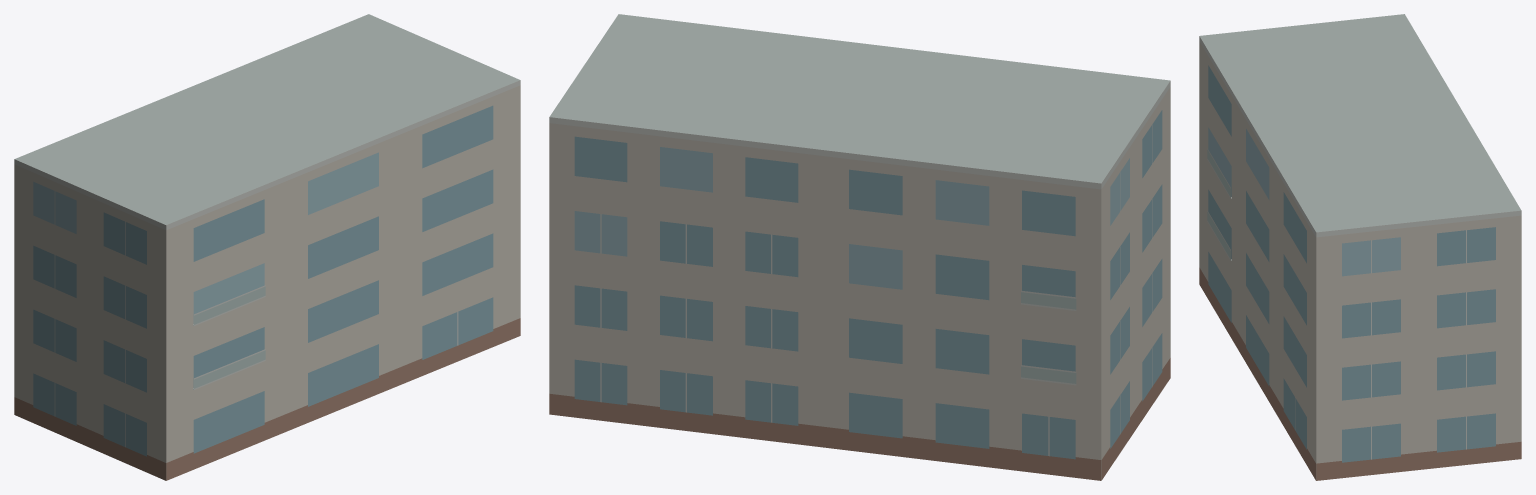
The model's file is residential-33b497e8-04ab-437e-82c7-bd547b257777.glb.
3 views of the same model, side by side, from view 1: azimuth 30°, elevation 25°; view 2: azimuth 150°, elevation 25°; view 3: azimuth 270°, elevation 25° (orthographic). The views are drawn at different scales.
Parts seen in each view (by area): view 1: residential-33b497e8-04ab-437e-82c7-bd547b257777.tmp; view 2: residential-33b497e8-04ab-437e-82c7-bd547b257777.tmp; view 3: residential-33b497e8-04ab-437e-82c7-bd547b257777.tmp.
Part boxes in pixels (box(x1,y1,x2,y2)): residential-33b497e8-04ab-437e-82c7-bd547b257777.tmp: box(14, 14, 520, 480); residential-33b497e8-04ab-437e-82c7-bd547b257777.tmp: box(549, 14, 1170, 480); residential-33b497e8-04ab-437e-82c7-bd547b257777.tmp: box(1199, 14, 1521, 480).
Bounding box in the file's own units: 23.01 × 12.2 × 14.35.
